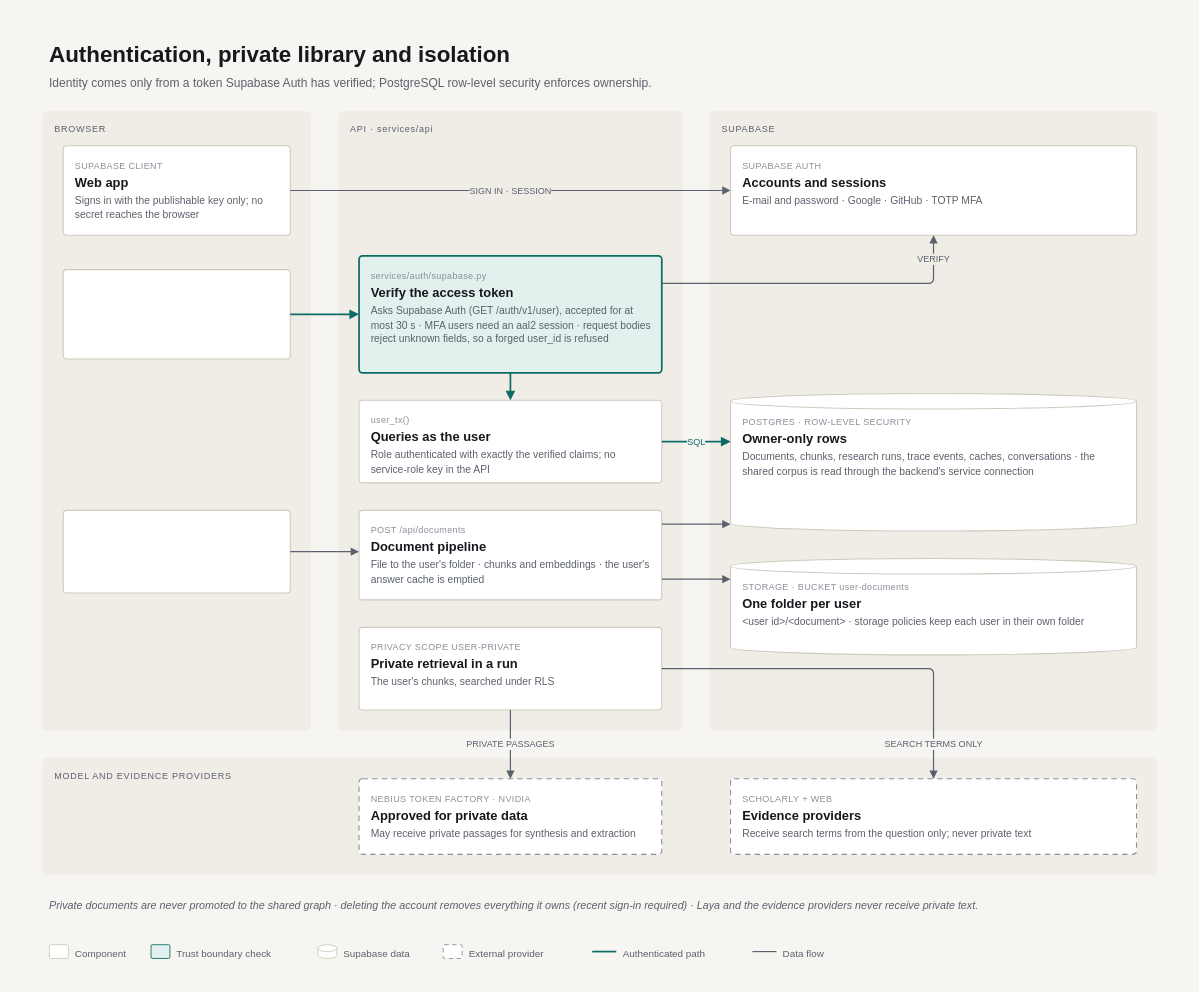
This 1199x992 diagram has some shape labels left out. The shapes that lost their labels are listed below. From the top down, each one's centre as x and y in pixels, then its label:
At pixel 176 314: "Research and library calls Authorization: Bearer <access token> on every request".
At pixel 176 551: "Upload a document PDF or text, sent to the API".
